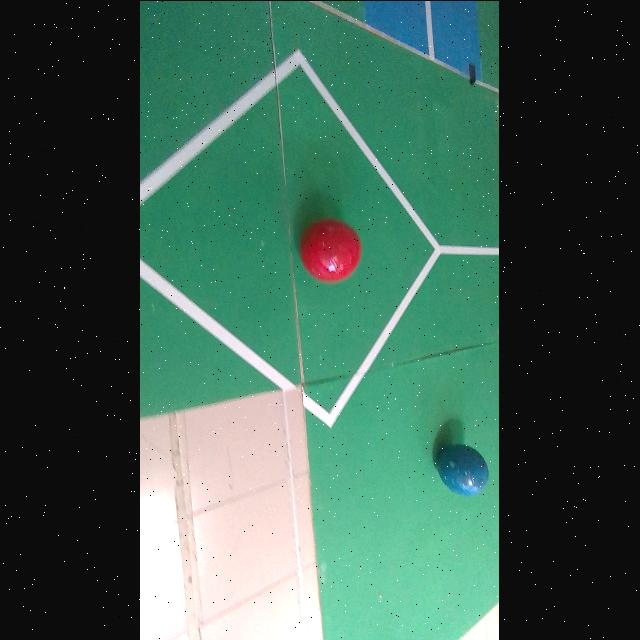B: (440, 444, 490, 496)
R: (301, 218, 363, 282)
